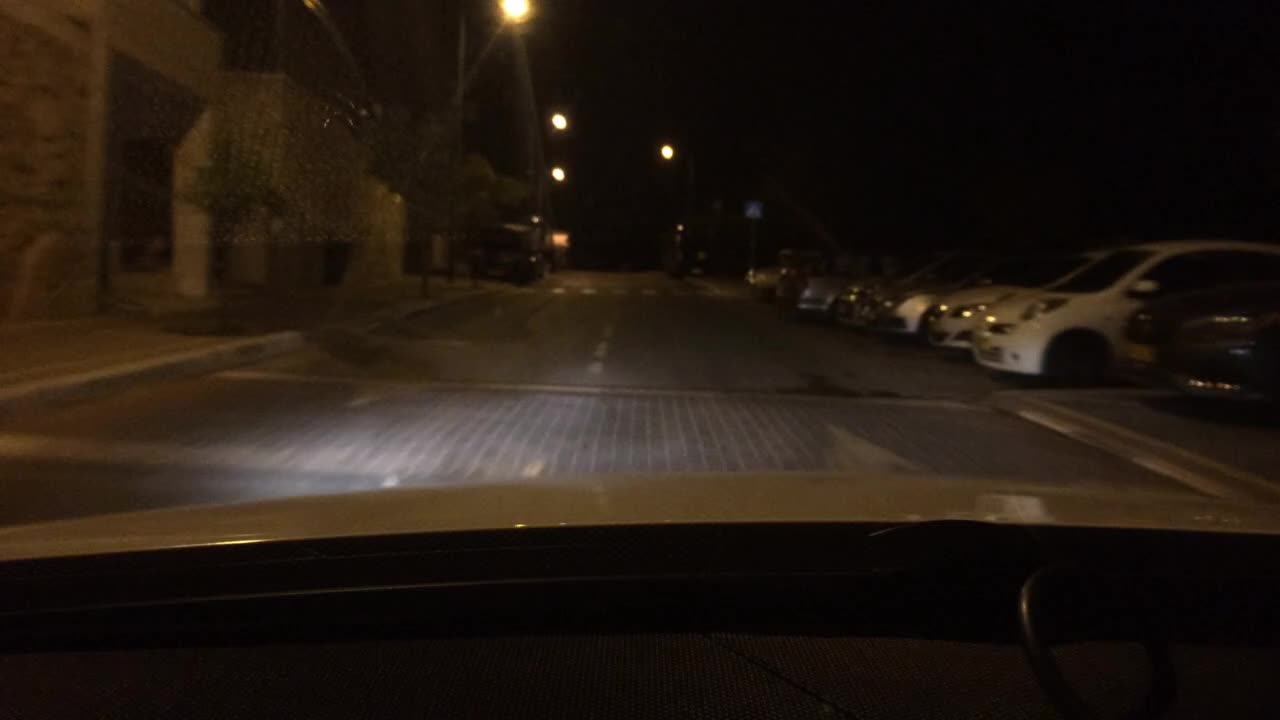car: (968, 232, 1278, 393), (1113, 271, 1277, 423), (928, 251, 1113, 356), (863, 262, 1005, 341), (829, 263, 980, 332), (791, 266, 887, 322), (472, 219, 542, 285), (743, 248, 805, 290), (772, 259, 820, 299)
traffic sign: (744, 198, 761, 216)
